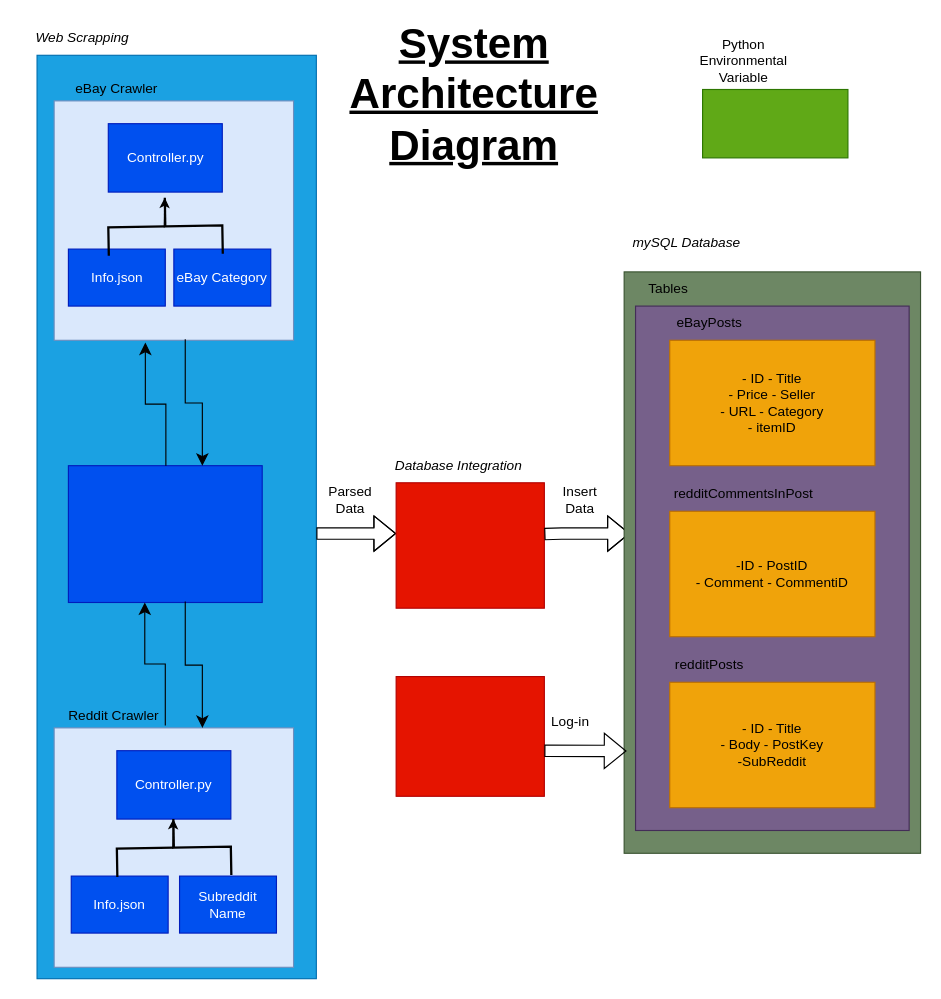
The diagram is 941 pixels wide and 999 high, and some of its shapes have lost their labels. The shapes that lost their labels are listed below. From the top down, each one's centre as x and y in pixels, then its label:
At pixel 774 123: "env".
At pixel 164 533: "Factory.py".
At pixel 469 545: "controllerDB.py".
At pixel 469 735: "varDB.py".
